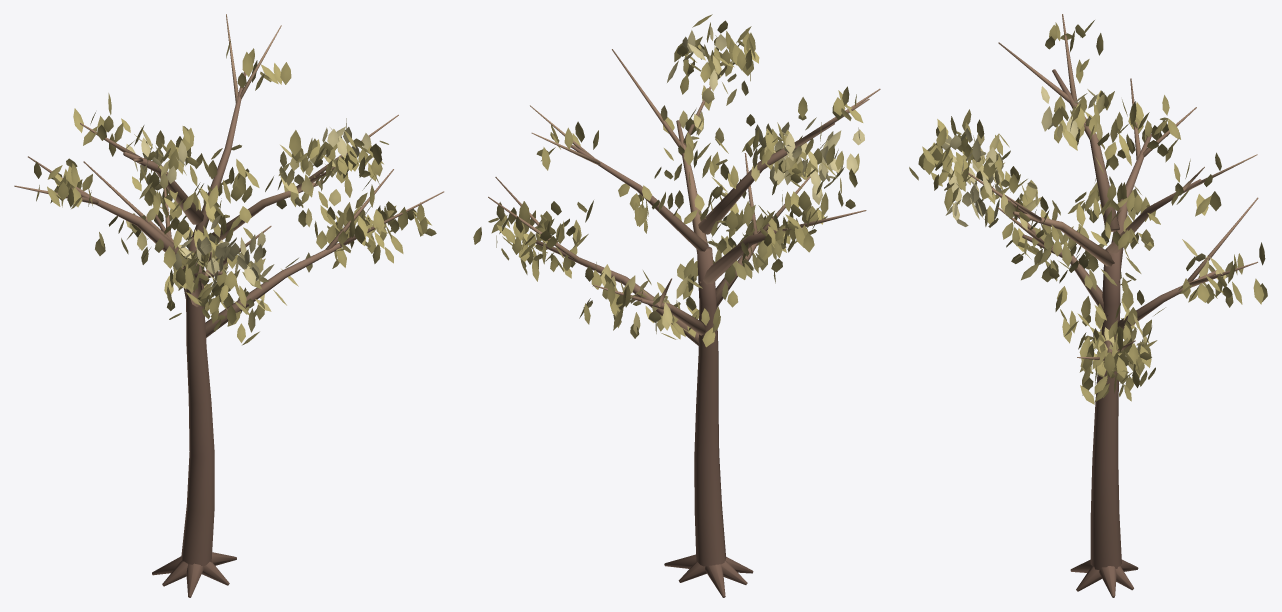
File: tree_3d_03_yellow.glb
3 renders of one model, left to right at view 1: azimuth 30°, elevation 25°; view 2: azimuth 150°, elevation 25°; view 3: azimuth 270°, elevation 25°, orthographic.
Visible parts, largest first — view 1: tree_3d_03_yellow_foliage, tree_3d_03_yellow_wood; view 2: tree_3d_03_yellow_foliage, tree_3d_03_yellow_wood; view 3: tree_3d_03_yellow_foliage, tree_3d_03_yellow_wood.
Part boxes in pixels (x1,y1,x2,y2): tree_3d_03_yellow_foliage: [34, 40, 436, 345]; tree_3d_03_yellow_wood: [14, 14, 444, 597]; tree_3d_03_yellow_foliage: [473, 14, 864, 347]; tree_3d_03_yellow_wood: [488, 49, 880, 597]; tree_3d_03_yellow_foliage: [909, 20, 1267, 404]; tree_3d_03_yellow_wood: [963, 14, 1258, 597].
Size of the model in its own units: 10.87 by 13.17 by 8.44.
